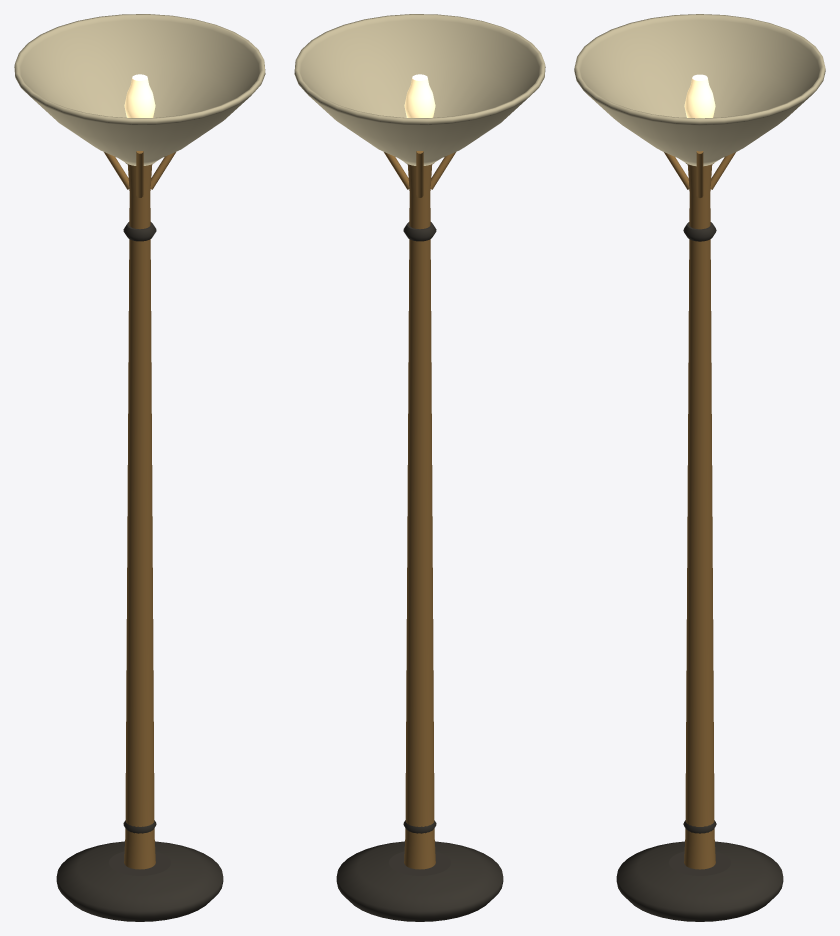
Rendered from rpg-mansion-bowl-torchiere-floor-lamp-01.glb.
3 renders of one model, left to right at view 1: azimuth 30°, elevation 25°; view 2: azimuth 150°, elevation 25°; view 3: azimuth 270°, elevation 25°, orthographic.
Parts seen in each view (by area): view 1: rpg-mansion-bowl-torchiere-floor-lamp-01; view 2: rpg-mansion-bowl-torchiere-floor-lamp-01; view 3: rpg-mansion-bowl-torchiere-floor-lamp-01.
Boxes of the visible parts, left/top/right/bottom form: rpg-mansion-bowl-torchiere-floor-lamp-01: left=14, top=14, right=265, bottom=921; rpg-mansion-bowl-torchiere-floor-lamp-01: left=294, top=14, right=545, bottom=921; rpg-mansion-bowl-torchiere-floor-lamp-01: left=574, top=14, right=825, bottom=921.
Size of the model in its own units: 0.484 by 1.75 by 0.484.
